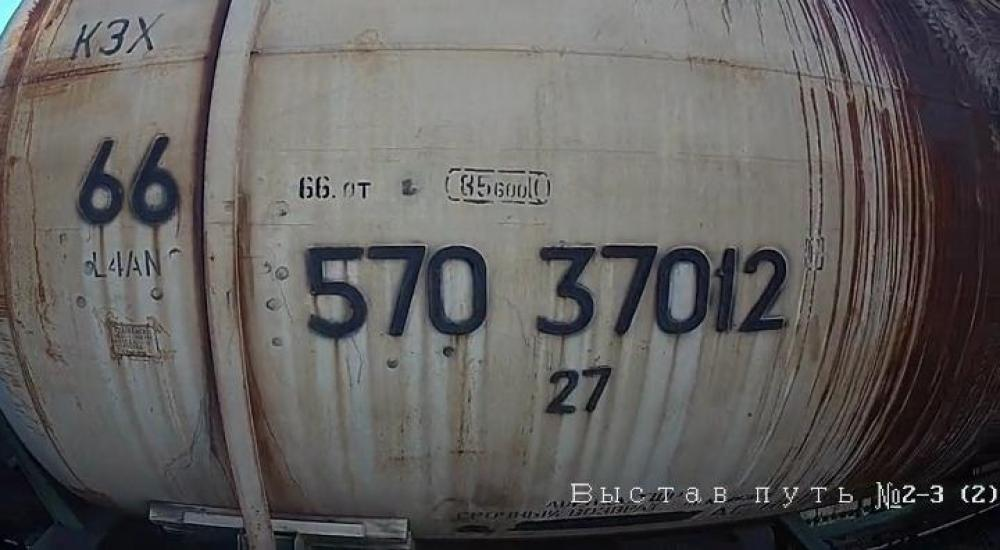Wagon-number: (301, 237, 792, 344)
